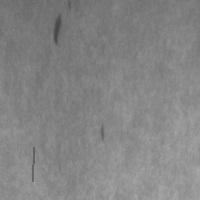inclusion: (50, 1, 74, 47), (96, 120, 110, 145), (30, 145, 35, 183)
